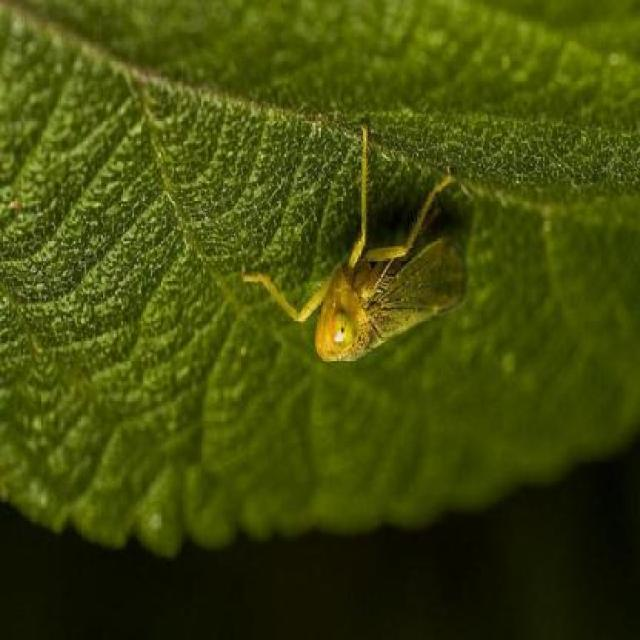green-leafhopper: (240, 120, 466, 368)
